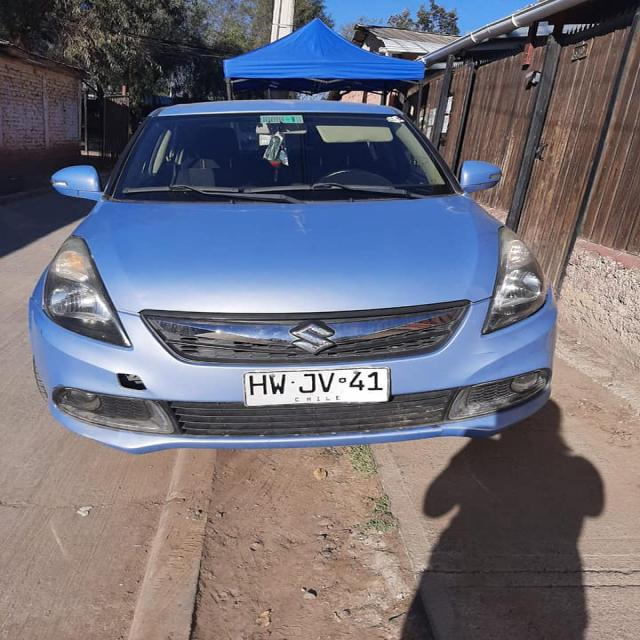patente: (242, 366, 391, 407)
